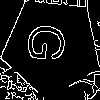G: (26, 21, 75, 65)
